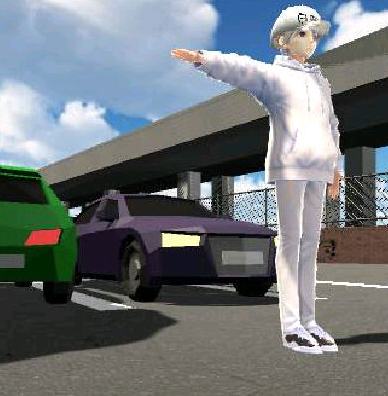singleP_left: (165, 2, 352, 355)
